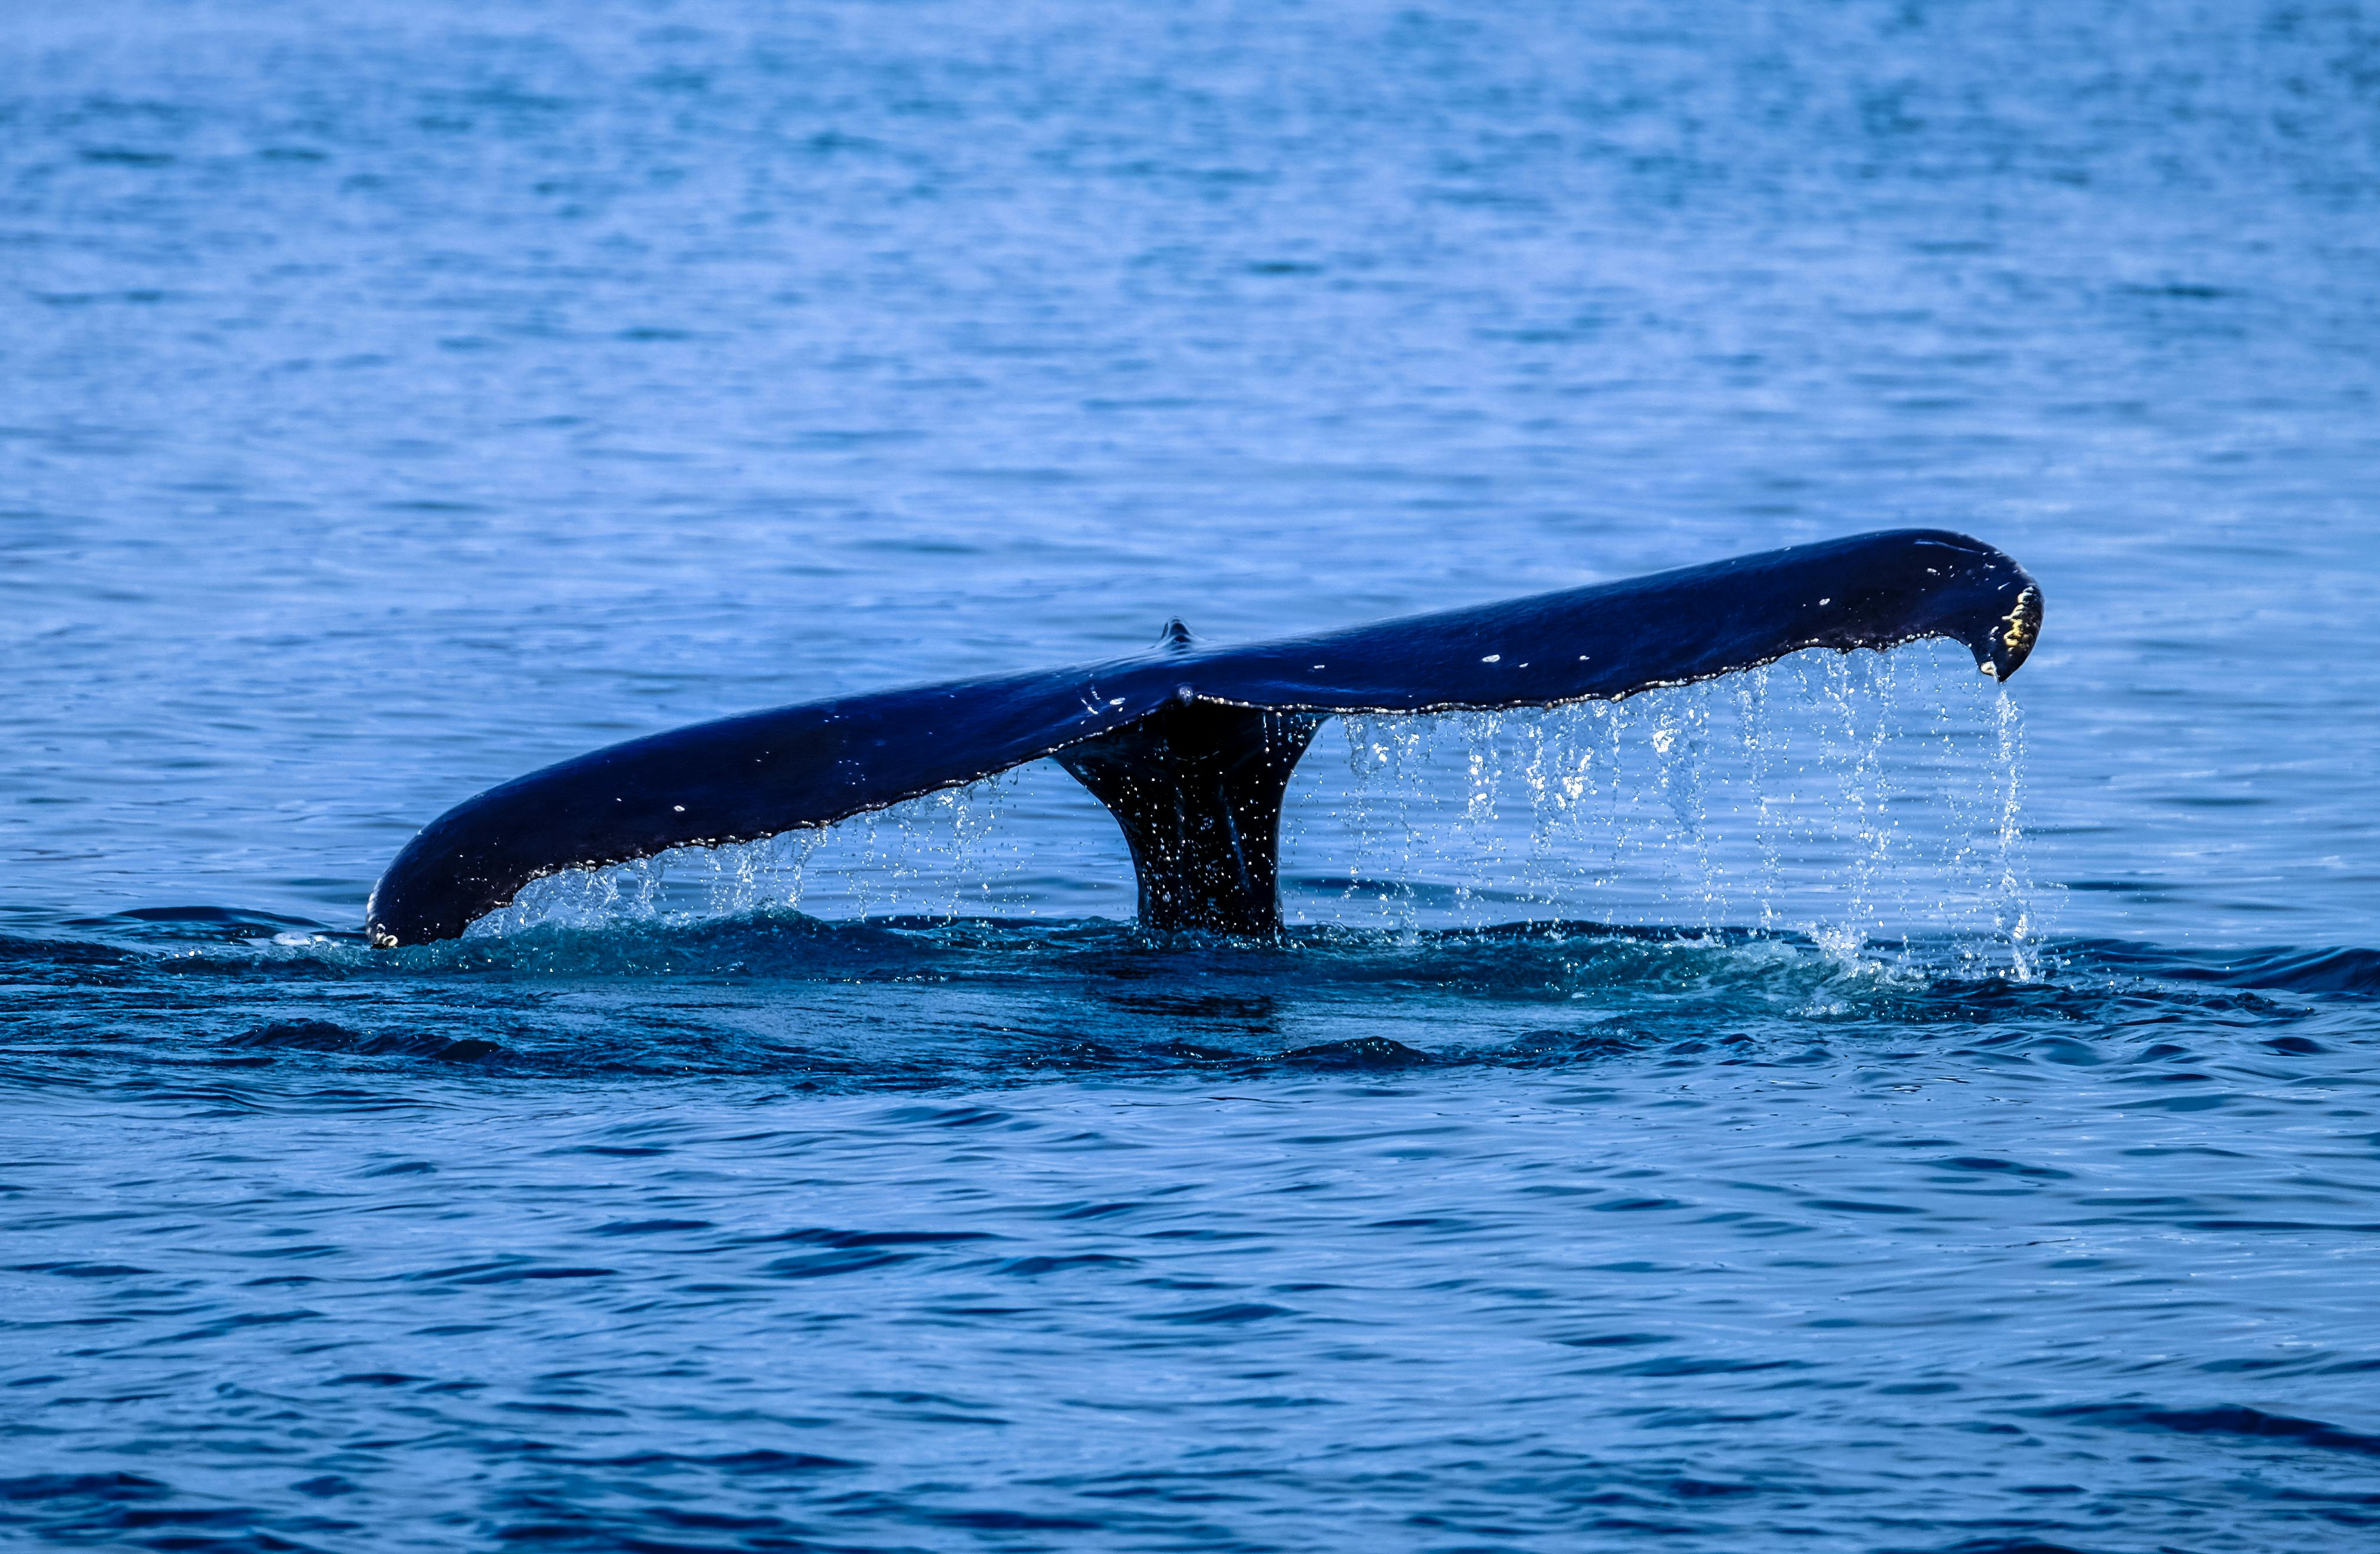whale: (361, 520, 2047, 961)
